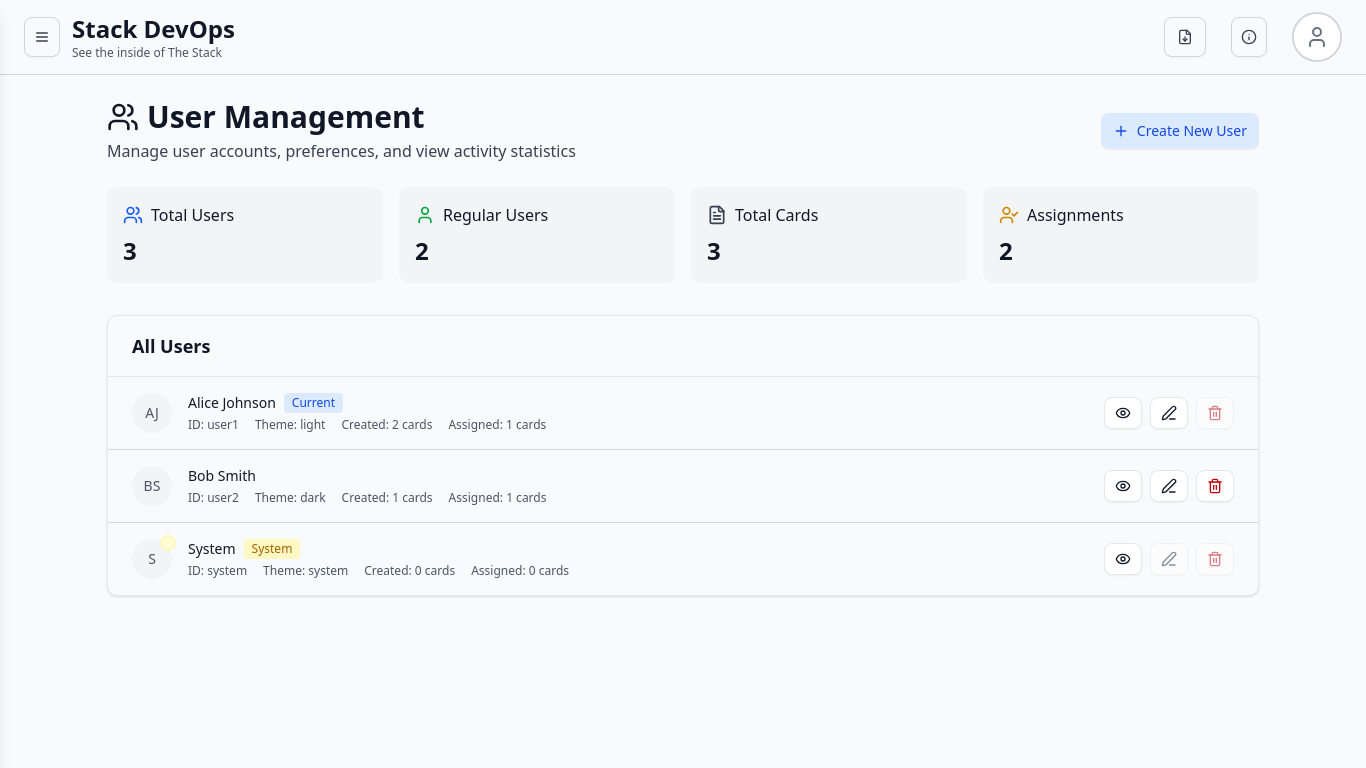
Test: UserManagementPage › Page Header › opens create dialog when create button is clicked
Click the button "Create New User": click(1180, 131) [1101, 113, 1259, 149]
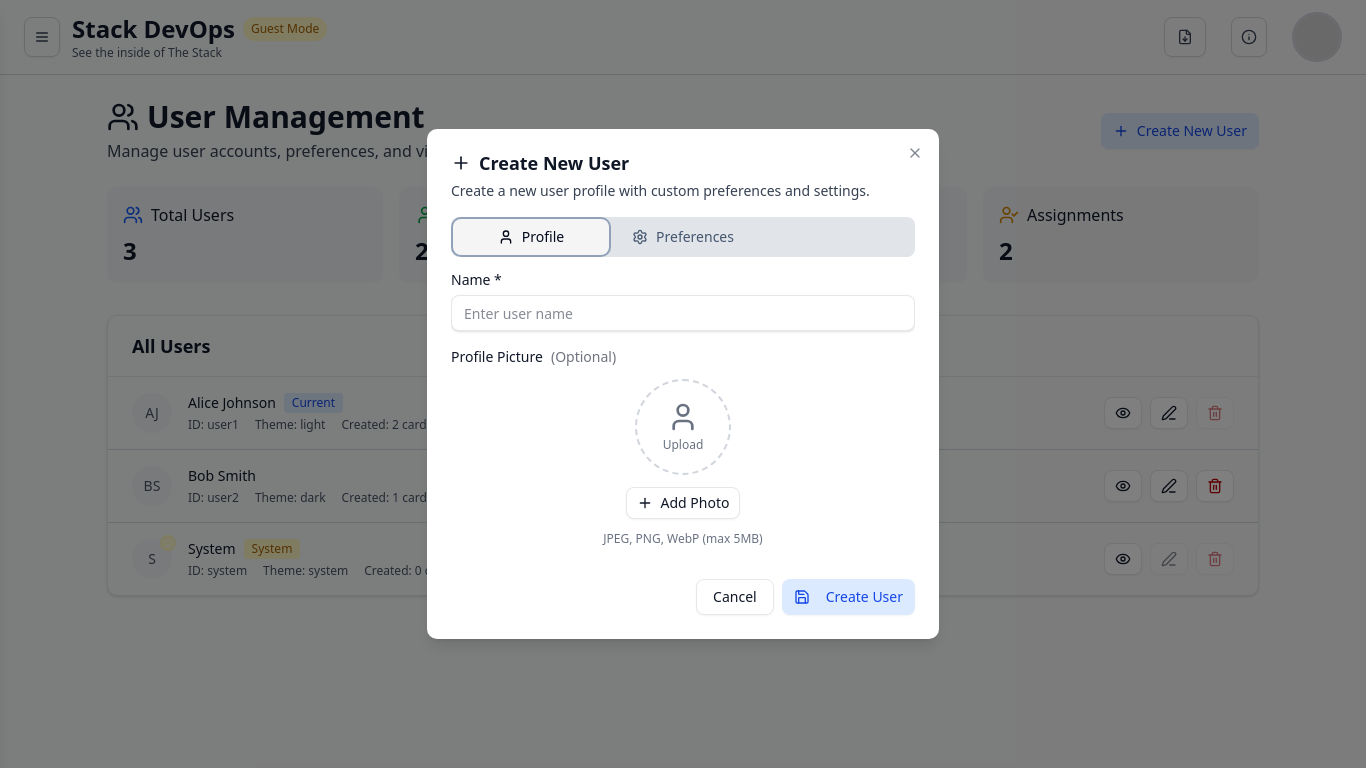
Result: the field with placeholder "Enter user name" is shown at [451, 295, 915, 331]
